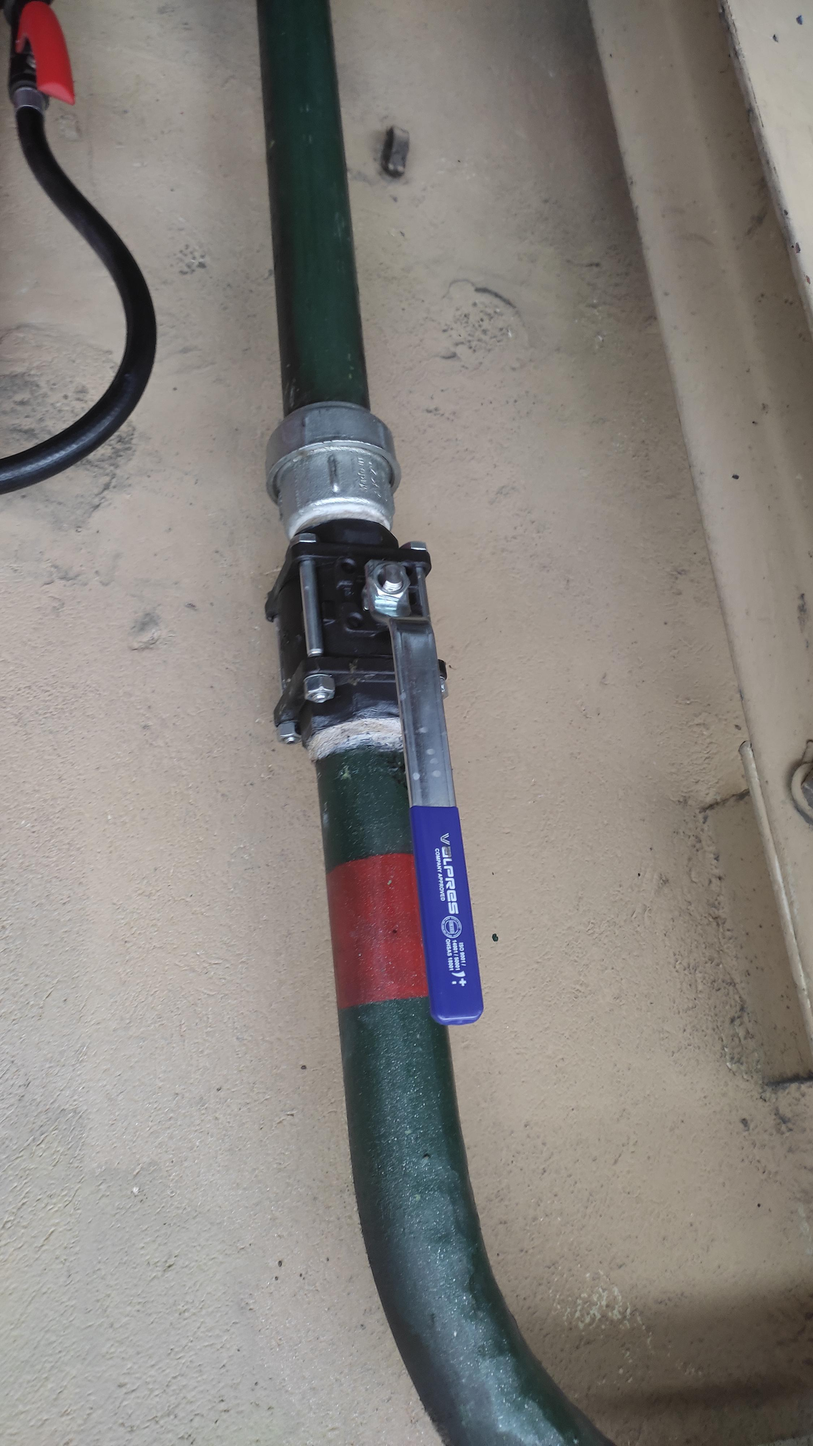opened valve: (261, 513, 491, 1033)
